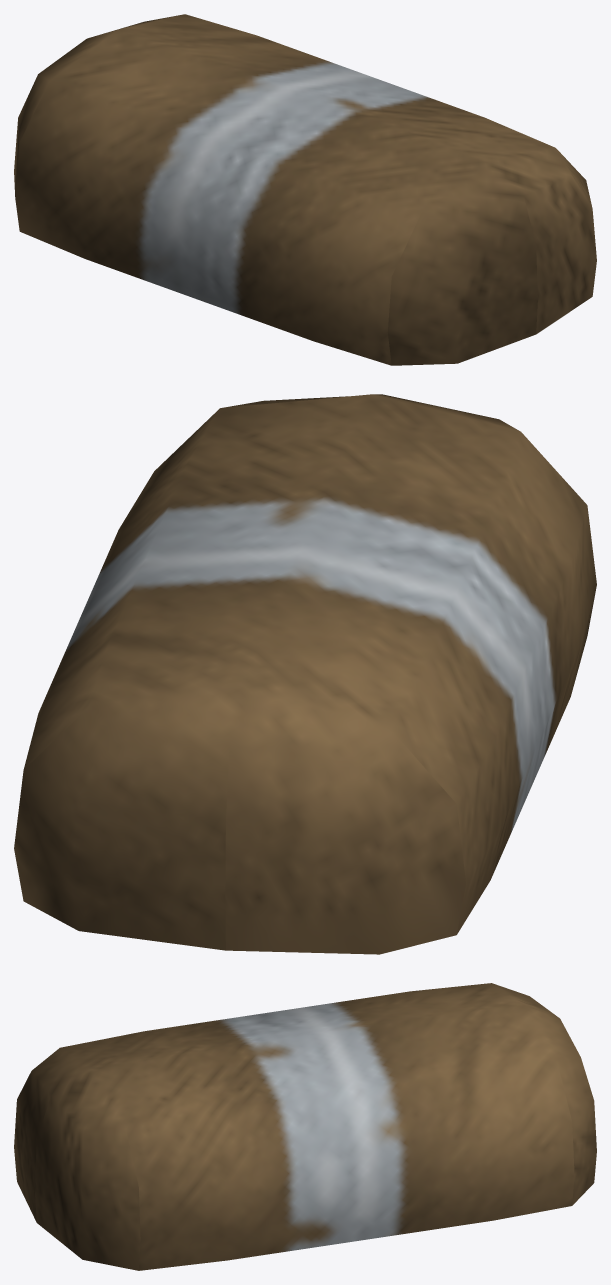
File: CocaineBagBig.fbx
The picture shows the model from 3 angles, top to bottom: view 1: azimuth 30°, elevation 25°; view 2: azimuth 150°, elevation 25°; view 3: azimuth 270°, elevation 25°; orthographic projection. The views are drawn at different scales.
Parts seen in each view (by area): view 1: Cube; view 2: Cube; view 3: Cube.
Boxes of the visible parts, left/top/right/bottom form: Cube: left=14, top=14, right=596, bottom=365; Cube: left=14, top=394, right=596, bottom=954; Cube: left=14, top=983, right=596, bottom=1270.
Bounding box in the file's own units: 0.1729 × 0.0649 × 0.2339.
